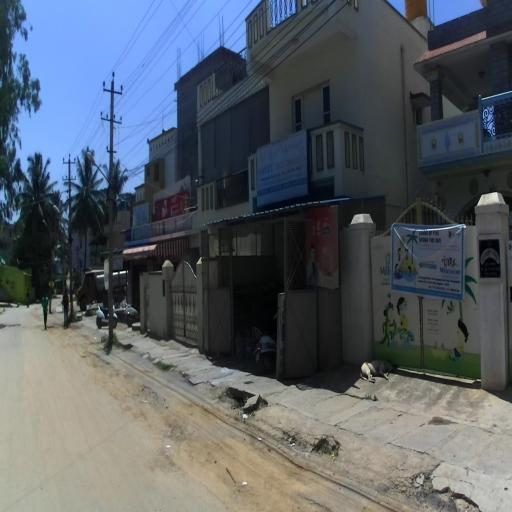street_light_0: (86, 152, 113, 206)
